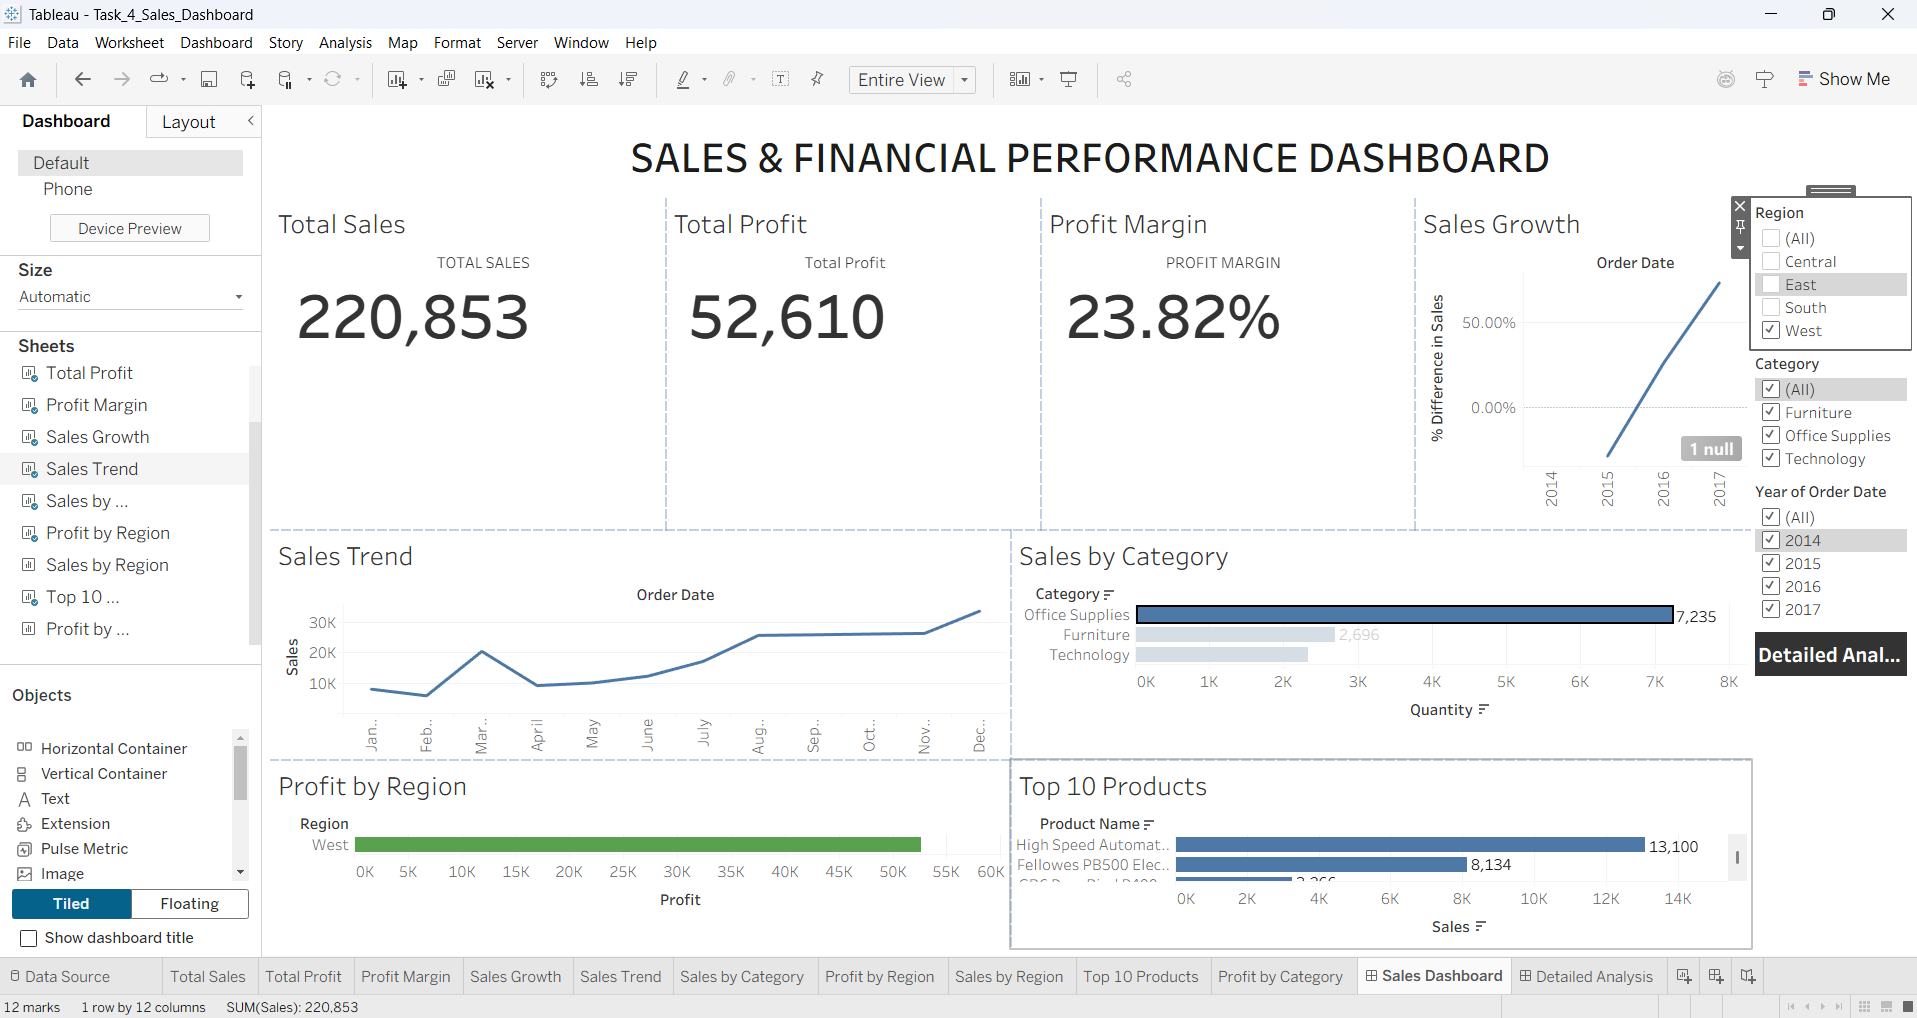

The dashboard page shown, as its layout file describes it:
{"tool":"tableau","page":{"name":"Sales Dashboard","canvas":[1000,1000],"units":"permille","ordinal":1},"visuals":[{"type":"text","box":[4.8,9.4,990.3,99.9]},{"type":"worksheet","title":"Total Sales","mark":"Automatic","box":[4.8,109.3,238.9,390.1]},{"type":"worksheet","title":"Total Profit","mark":"Automatic","box":[243.7,109.3,226.2,390.1]},{"type":"worksheet","title":"Profit Margin","mark":"Automatic","box":[469.9,109.3,226.2,390.1]},{"type":"worksheet","title":"Sales Growth","mark":"Automatic","rows":["Sales"],"cols":["Order Date"],"box":[696.1,109.3,202.6,390.1]},{"type":"filter","title":"Sales Trend","param":"[federated.1bbwyk90vp2ege18dg5my0c4wxmg].[none:Region:nk]","box":[898.6,109.3,96.6,177.4]},{"type":"filter","title":"Sales Trend","param":"[federated.1bbwyk90vp2ege18dg5my0c4wxmg].[none:Category:nk]","box":[898.6,286.7,96.6,150.4]},{"type":"filter","title":"Sales Trend","param":"[federated.1bbwyk90vp2ege18dg5my0c4wxmg].[yr:Order Date:ok]","box":[898.6,437.1,96.6,177.4]},{"type":"worksheet","title":"Sales Trend","mark":"Line","rows":["Sales"],"cols":["Order Date"],"box":[4.8,499.4,446.9,270.4]},{"type":"worksheet","title":"Sales by Category","mark":"Bar","rows":["Category"],"cols":["Quantity"],"box":[451.7,499.4,446.9,270.4]},{"type":"dashboard-object","box":[898.6,614.6,96.6,61.1]},{"type":"worksheet","title":"Profit by Region","mark":"Bar","rows":["Region"],"cols":["Profit"],"box":[4.8,769.8,446.9,220.8]},{"type":"worksheet","title":"Top 10 Products","mark":"Automatic","rows":["Product Name"],"cols":["Sales"],"box":[451.7,769.8,446.9,220.8]}]}

Visuals, with their boxes on the dashboard's canvas, which has no fixed pixel size, in thousandths of its width and height (x1, y1, x2, y2). These are canvas units, not pixel positions in the 1917x1018 screenshot, which may show the page scaled, cropped or inside an application window:
text: 5:9:995:109
"Total Sales" worksheet: 5:109:244:499
"Total Profit" worksheet: 244:109:470:499
"Profit Margin" worksheet: 470:109:696:499
"Sales Growth" worksheet: 696:109:899:499
"Sales Trend" filter: 899:109:995:287
"Sales Trend" filter: 899:287:995:437
"Sales Trend" filter: 899:437:995:614
"Sales Trend" worksheet (Line marks): 5:499:452:770
"Sales by Category" worksheet (Bar marks): 452:499:899:770
dashboard-object: 899:615:995:676
"Profit by Region" worksheet (Bar marks): 5:770:452:991
"Top 10 Products" worksheet: 452:770:899:991
